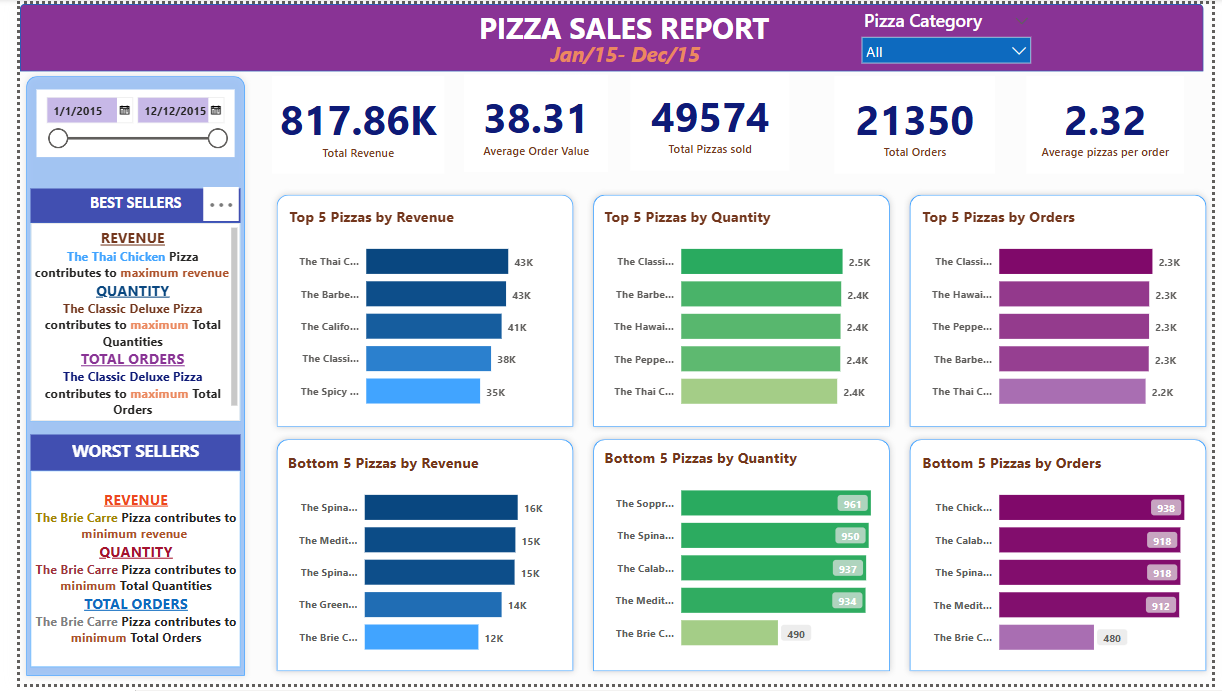

This screenshot's page, from the dashboard's own definition file:
{"tool":"powerbi","page":{"name":"Best/ Worst Seller","canvas":[1540,878],"ordinal":1},"visuals":[{"type":"group","id":"g1","title":"Group 1","box":[325.6,89,1177.3,130.5],"z":0},{"type":"card","fields":{"Values":["pizza_sales.Total Revenue"]},"box":[325.6,93.2,222.4,126.3],"z":0,"group":"g1"},{"type":"shape","box":[0,0,1529.2,87.2],"z":1000},{"type":"card","fields":{"Values":["pizza_sales.Average Order Value"]},"box":[574.3,91.1,186.1,126],"z":1000,"group":"g1"},{"type":"textbox","box":[582.7,0,394.4,59.8],"z":2000},{"type":"card","fields":{"Values":["pizza_sales.Total Pizzas sold"]},"box":[789.6,89,205.4,126],"z":2000,"group":"g1"},{"type":"textbox","box":[658.9,41.6,246.2,45.3],"z":3000},{"type":"card","fields":{"Values":["pizza_sales.Total Orders"]},"box":[1053.2,92.9,207.4,126],"z":3000,"group":"g1"},{"type":"shape","title":"Daily Trend fir Total Orders","box":[0,85.3,298.5,790.8],"z":4000},{"type":"card","fields":{"Values":["pizza_sales.Average pizzas per order"]},"box":[1299.7,93.2,203.1,126],"z":4000,"group":"g1"},{"type":"shape","title":"Daily Trend fir Total Orders","box":[323.7,238.4,399.3,316],"z":5000},{"type":"textbox","box":[13.6,238.4,271.3,44.6],"z":6000},{"type":"textbox","box":[13.6,283,271.3,255.8],"z":7000},{"type":"textbox","box":[13.6,602.8,271.3,253.9],"z":8000},{"type":"slicer","fields":{"Values":["pizza_sales.pizza_category"]},"box":[1077.6,0,238.4,85.3],"z":9000},{"type":"textbox","box":[13.6,556.3,271.3,46.5],"z":10000},{"type":"shape","title":"Daily Trend fir Total Orders","box":[323.7,554.3,399.3,315.9],"z":11000},{"type":"shape","title":"Daily Trend fir Total Orders","box":[732.6,554.3,399.3,315.9],"z":12000},{"type":"shape","title":"Daily Trend fir Total Orders","box":[1141.6,238.4,399.3,315.9],"z":13000},{"type":"shape","title":"Daily Trend fir Total Orders","box":[732.6,238.4,399.3,315.9],"z":14000},{"type":"shape","title":"Daily Trend fir Total Orders","box":[1141.6,554.3,399.3,315.9],"z":15000},{"type":"barChart","title":"Top 5 Pizzas by Revenue","fields":{"Category":["pizza_sales.pizza_name"],"Y":["pizza_sales.Total Revenue"]},"box":[343.1,261.7,362.4,277.2],"z":16000},{"type":"barChart","title":"Bottom 5 Pizzas by Revenue","fields":{"Category":["pizza_sales.pizza_name"],"Y":["pizza_sales.Total Revenue"]},"box":[341.1,579.5,362.4,277.2],"z":17000},{"type":"barChart","title":"Top 5 Pizzas by Quantity","fields":{"Category":["pizza_sales.pizza_name"],"Y":["pizza_sales.Total Pizzas sold"]},"box":[750.7,261.6,364,277.5],"z":18000},{"type":"barChart","title":"Top 5 Pizzas by Orders","fields":{"Category":["pizza_sales.pizza_name"],"Y":["pizza_sales.Total Orders"]},"box":[1160.1,261.6,364,277.5],"z":19000},{"type":"barChart","title":"Bottom 5 Pizzas by Quantity","fields":{"Category":["pizza_sales.pizza_name"],"Y":["pizza_sales.Total Pizzas sold"]},"box":[750.7,573.2,364,277.5],"z":20000},{"type":"barChart","title":"Bottom 5 Pizzas by Orders","fields":{"Category":["pizza_sales.pizza_name"],"Y":["pizza_sales.Total Orders"]},"box":[1160.1,580.1,364,277.5],"z":21000},{"type":"slicer","fields":{"Values":["pizza_sales.order_date"]},"box":[21.3,110.5,255.8,87.2],"z":22000}]}

Visuals, with their boxes in screenshot pixels (x1, y1, x2, y2), scaled from the page's 1540x878 canvas onto the 1222x691 screenshot:
"Group 1" group: <region>258, 70, 1193, 173</region>
card - pizza_sales.Total Revenue: <region>258, 73, 435, 173</region>
shape: <region>0, 0, 1213, 69</region>
card - pizza_sales.Average Order Value: <region>456, 72, 603, 171</region>
textbox: <region>462, 0, 775, 47</region>
card - pizza_sales.Total Pizzas sold: <region>627, 70, 790, 169</region>
textbox: <region>523, 33, 718, 68</region>
card - pizza_sales.Total Orders: <region>836, 73, 1000, 172</region>
"Daily Trend fir Total Orders" shape: <region>0, 67, 237, 690</region>
card - pizza_sales.Average pizzas per order: <region>1031, 73, 1192, 173</region>
"Daily Trend fir Total Orders" shape: <region>257, 188, 574, 436</region>
textbox: <region>11, 188, 226, 223</region>
textbox: <region>11, 223, 226, 424</region>
textbox: <region>11, 474, 226, 674</region>
slicer - pizza_sales.pizza_category: <region>855, 0, 1044, 67</region>
textbox: <region>11, 438, 226, 474</region>
"Daily Trend fir Total Orders" shape: <region>257, 436, 574, 685</region>
"Daily Trend fir Total Orders" shape: <region>581, 436, 898, 685</region>
"Daily Trend fir Total Orders" shape: <region>906, 188, 1221, 436</region>
"Daily Trend fir Total Orders" shape: <region>581, 188, 898, 436</region>
"Daily Trend fir Total Orders" shape: <region>906, 436, 1221, 685</region>
"Top 5 Pizzas by Revenue" barChart: <region>272, 206, 560, 424</region>
"Bottom 5 Pizzas by Revenue" barChart: <region>271, 456, 558, 674</region>
"Top 5 Pizzas by Quantity" barChart: <region>596, 206, 885, 424</region>
"Top 5 Pizzas by Orders" barChart: <region>921, 206, 1209, 424</region>
"Bottom 5 Pizzas by Quantity" barChart: <region>596, 451, 885, 670</region>
"Bottom 5 Pizzas by Orders" barChart: <region>921, 457, 1209, 675</region>
slicer - pizza_sales.order_date: <region>17, 87, 220, 156</region>
